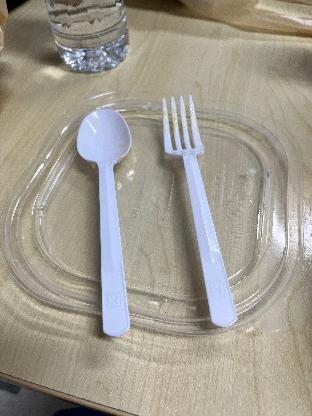Others: (154, 91, 242, 335), (72, 103, 154, 341)
